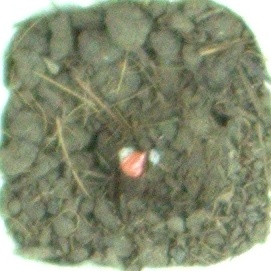chilli seed: (116, 148, 149, 179)
